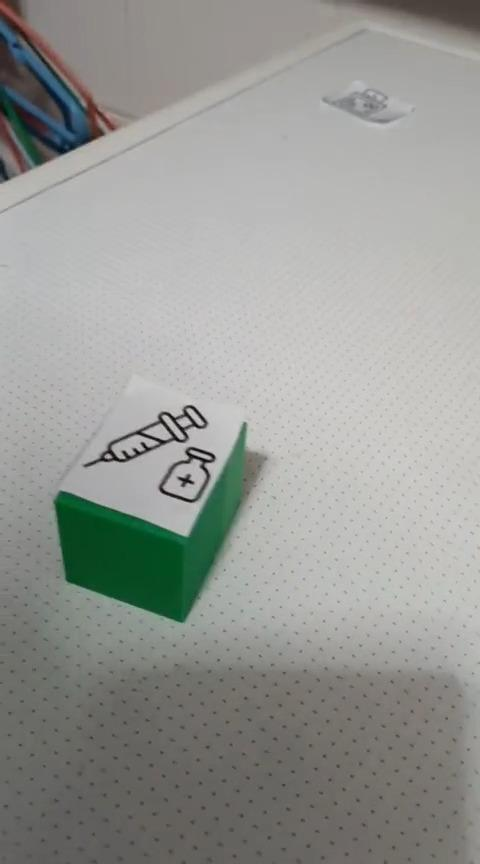antiseptic cream: (52, 372, 249, 623)
